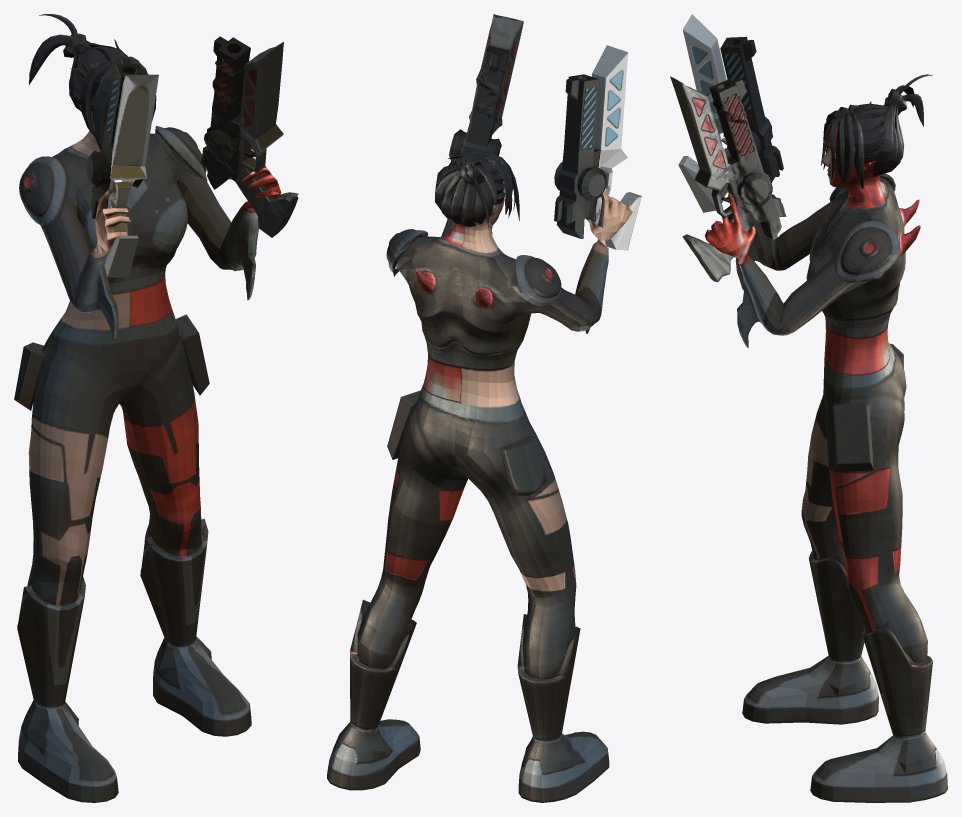
The picture shows the model from 3 angles, left to right: view 1: azimuth 30°, elevation 25°; view 2: azimuth 150°, elevation 25°; view 3: azimuth 270°, elevation 25°; orthographic projection. The views are drawn at different scales.
Parts seen in each view (by area): view 1: Dex_LOW_Plane.001; view 2: Dex_LOW_Plane.001; view 3: Dex_LOW_Plane.001.
Part boxes in pixels (x1=…): Dex_LOW_Plane.001: x1=14, y1=14, x2=298, y2=802; Dex_LOW_Plane.001: x1=327, y1=14, x2=641, y2=802; Dex_LOW_Plane.001: x1=670, y1=14, x2=947, y2=802.
Bounding box in the file's own units: 1.63 × 5.08 × 1.83.
